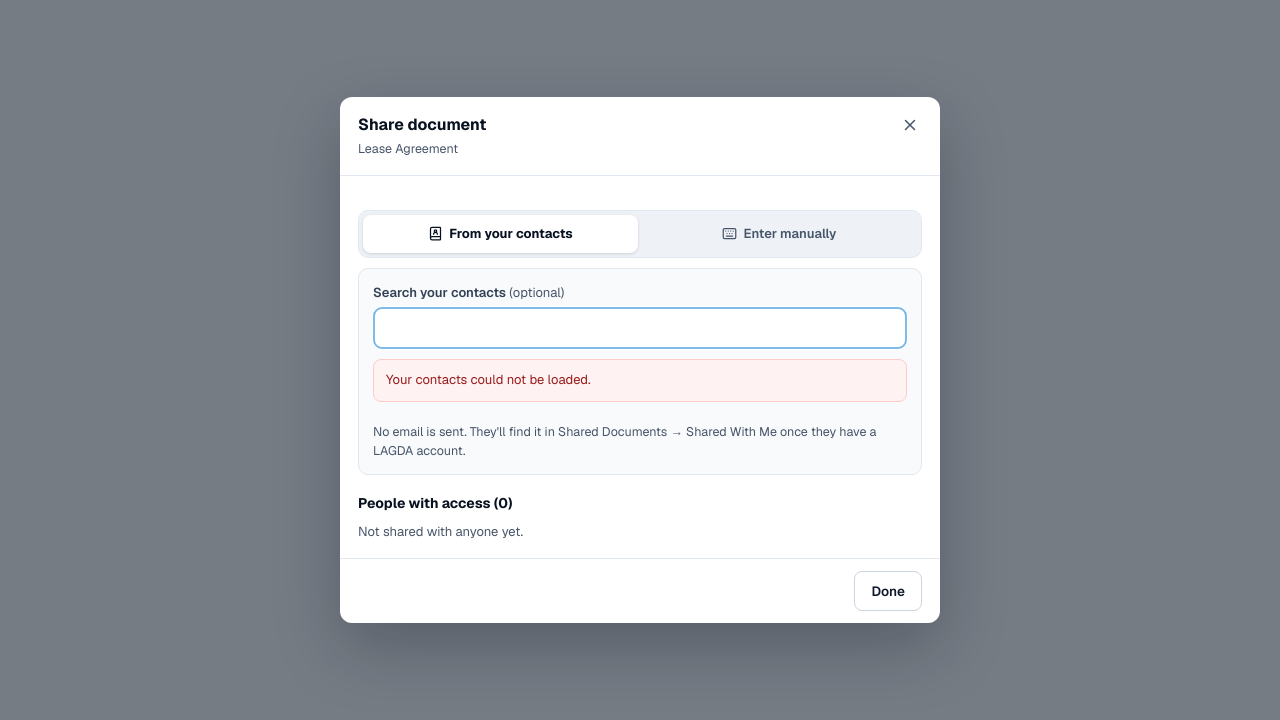
ShareDocumentDialog › explains document_share_exists
Click the tab with test id "add-way-manual": click(780, 234) x1=642 y1=215 x2=917 y2=253
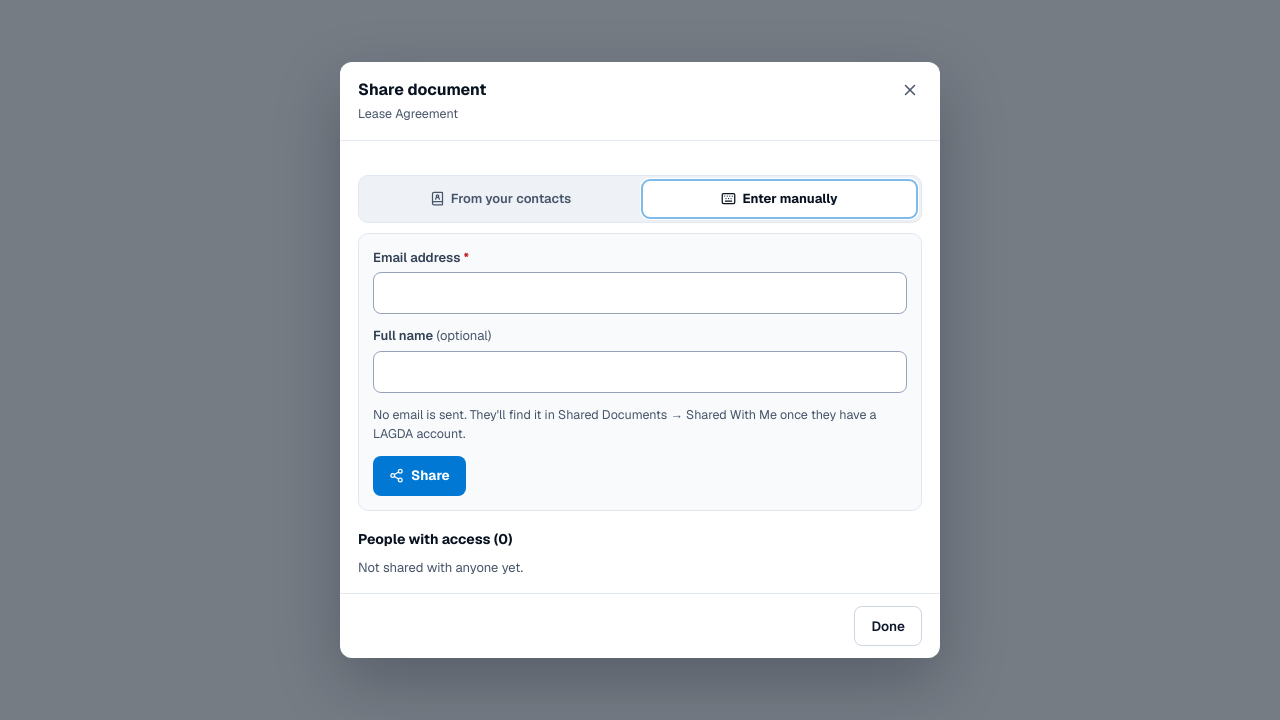
In the field labelled "Email address *": (640, 293) x1=373 y1=272 x2=907 y2=314, type "ana@example.com"
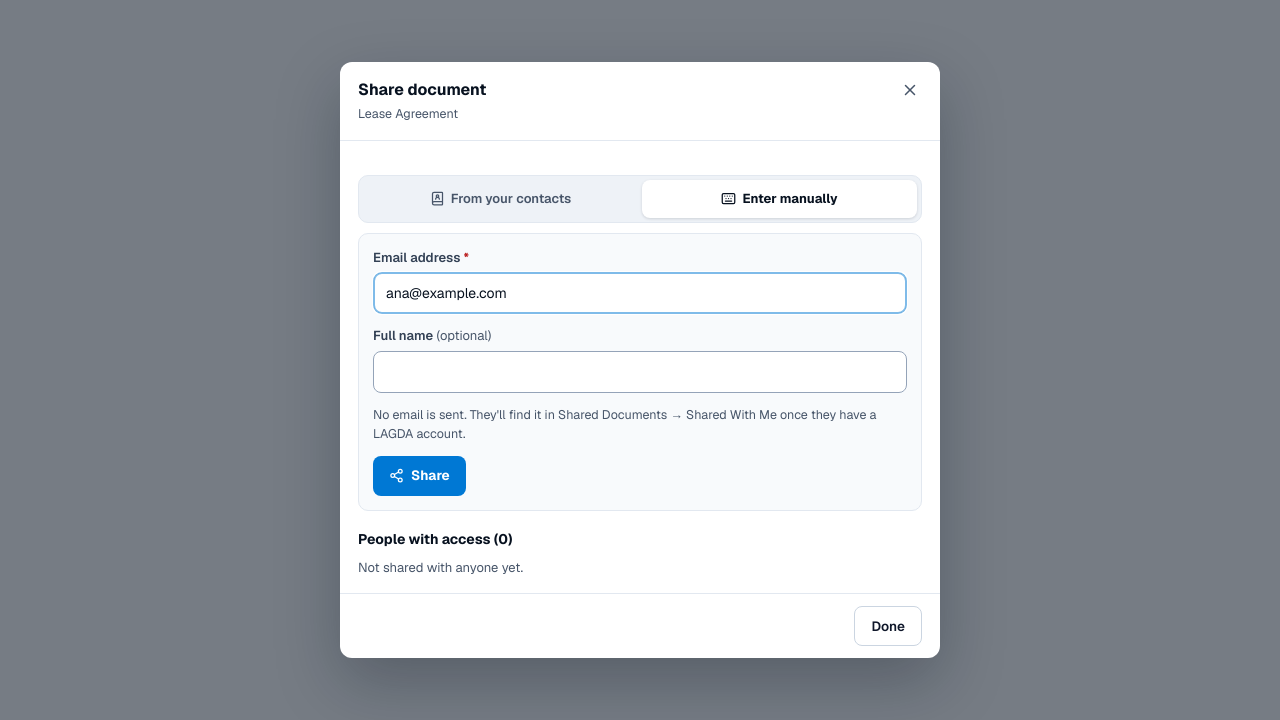
Click the button "Share": click(419, 476) x1=373 y1=456 x2=466 y2=496
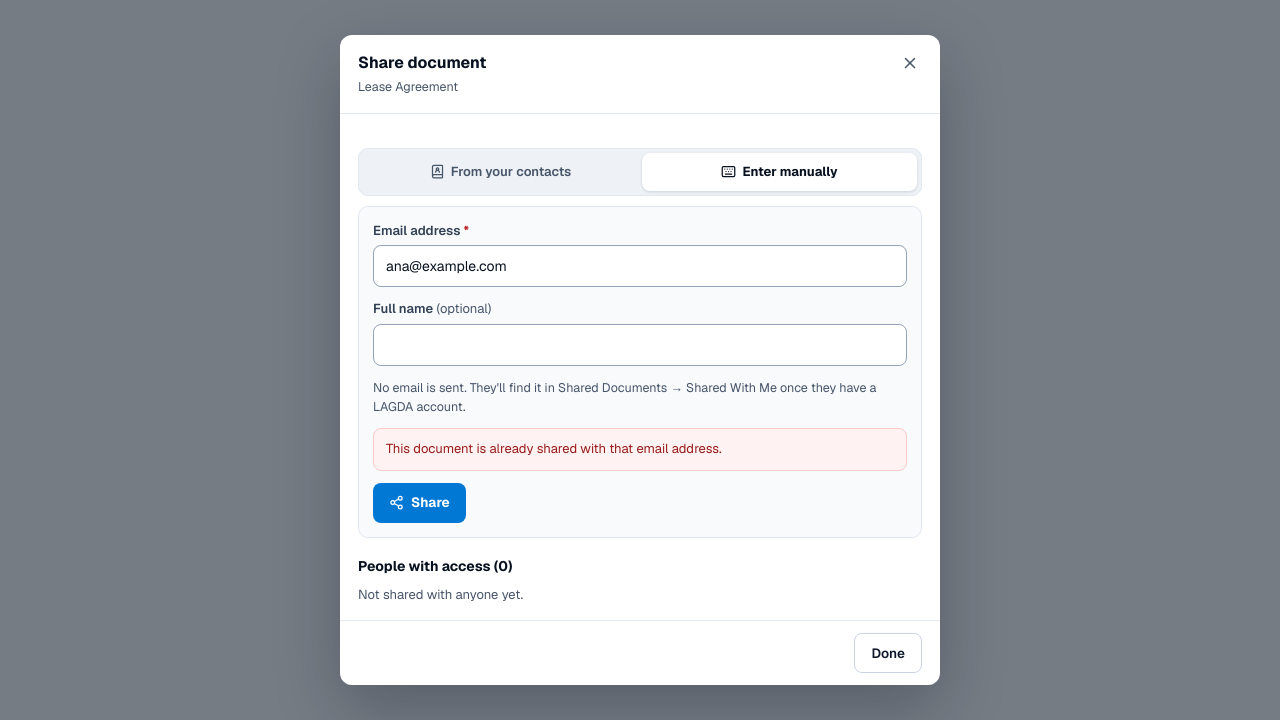
Expected: the text "This document is already shared with that email address." is shown, x1=373 y1=428 x2=907 y2=470
